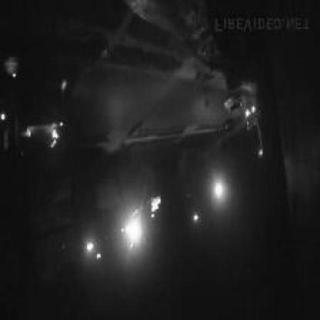other: (18, 117, 74, 157), (117, 217, 146, 253), (205, 172, 228, 206)
